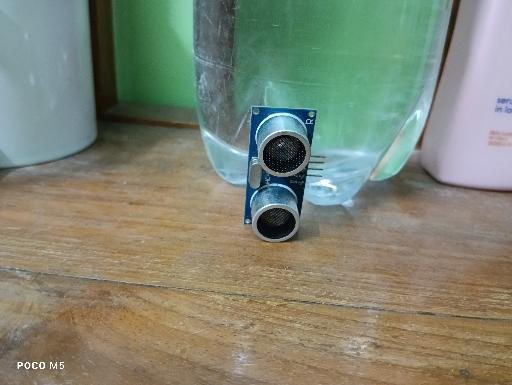sensor: (243, 105, 325, 243)
